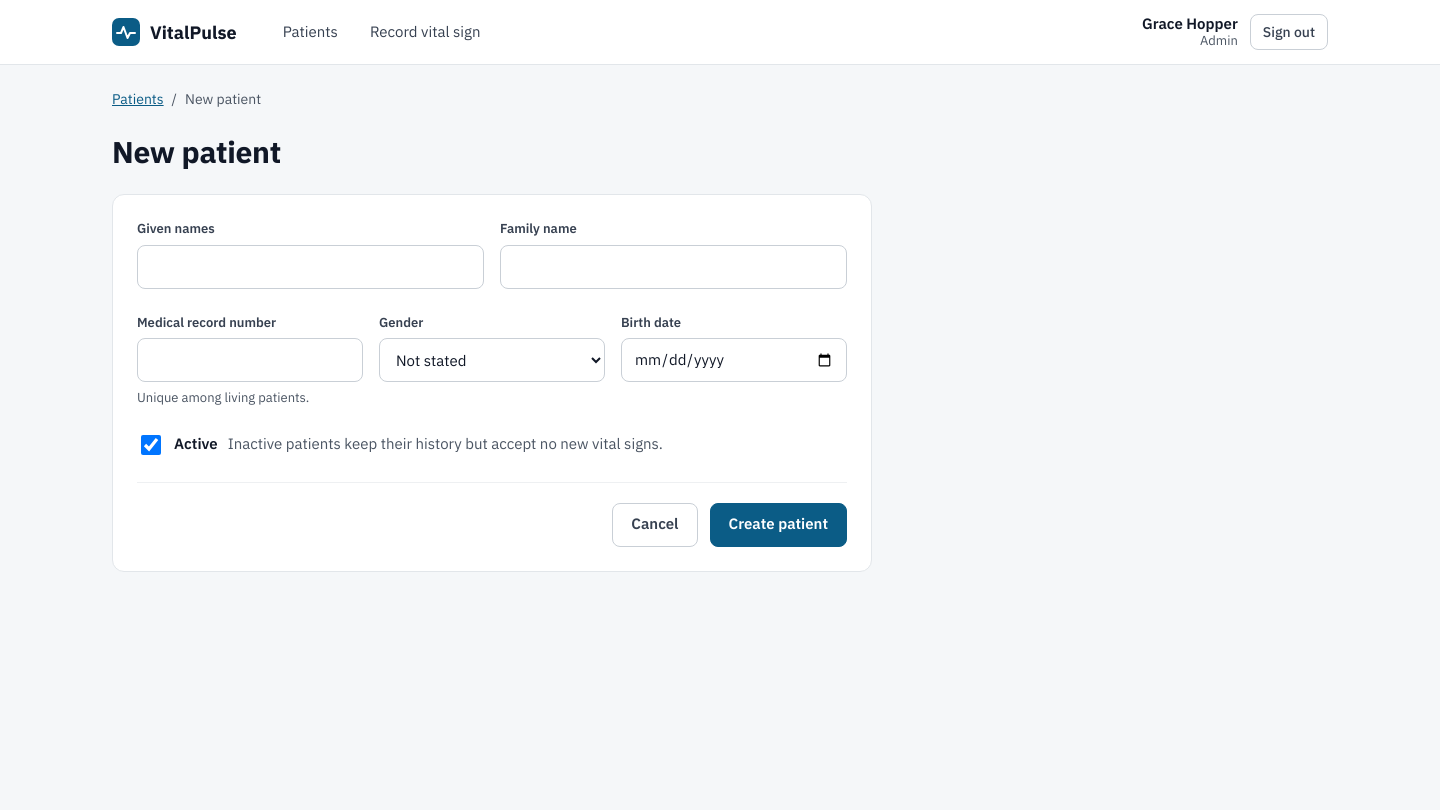
Test: Patient form page › creates a patient and opens it
The image size is (1440, 810).
Type "Grace Brewster" into the field labelled "Given names" at {"x": 310, "y": 266}, box [137,244,484,288]
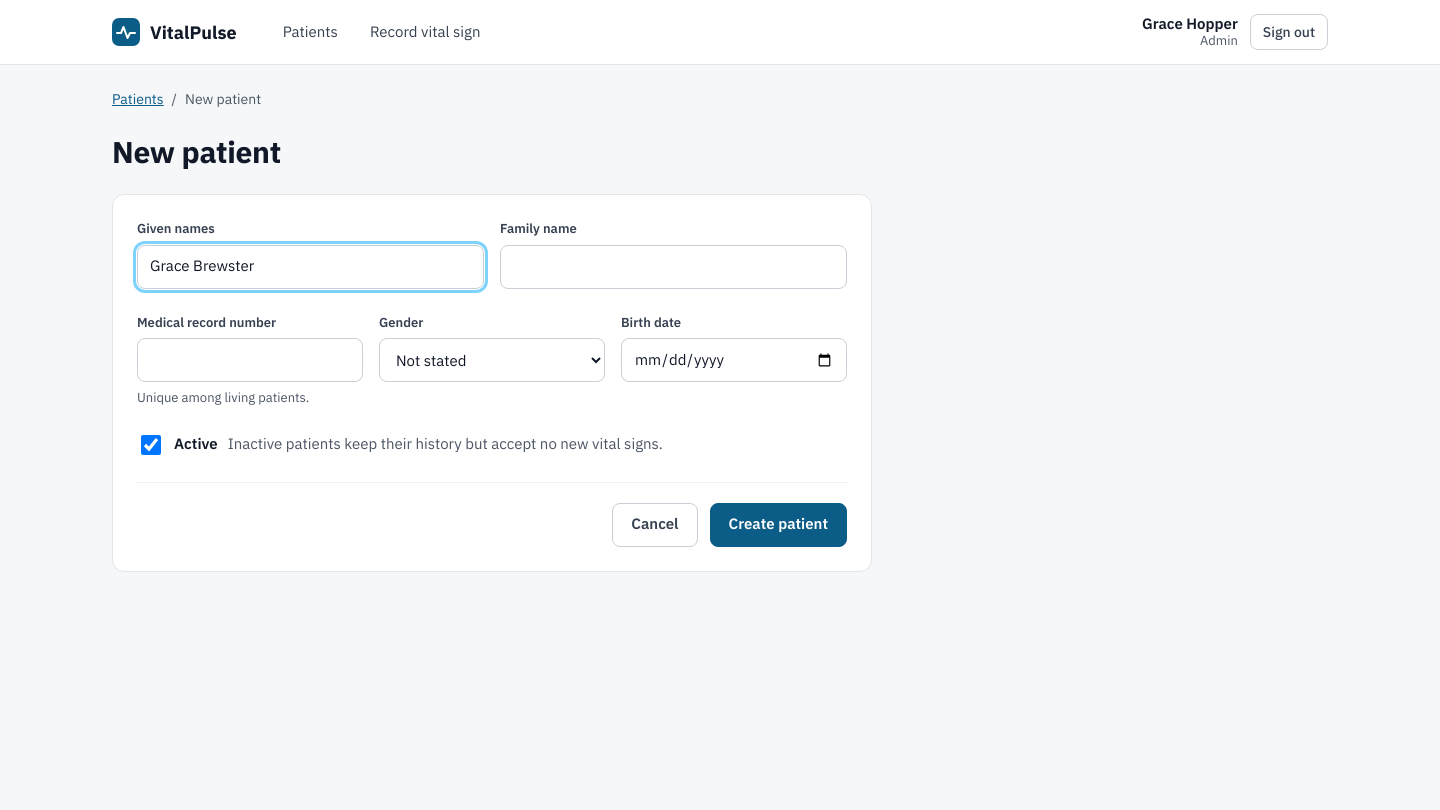
Type "Hopper" into the field labelled "Family name" at {"x": 674, "y": 266}, box [500,244,847,288]
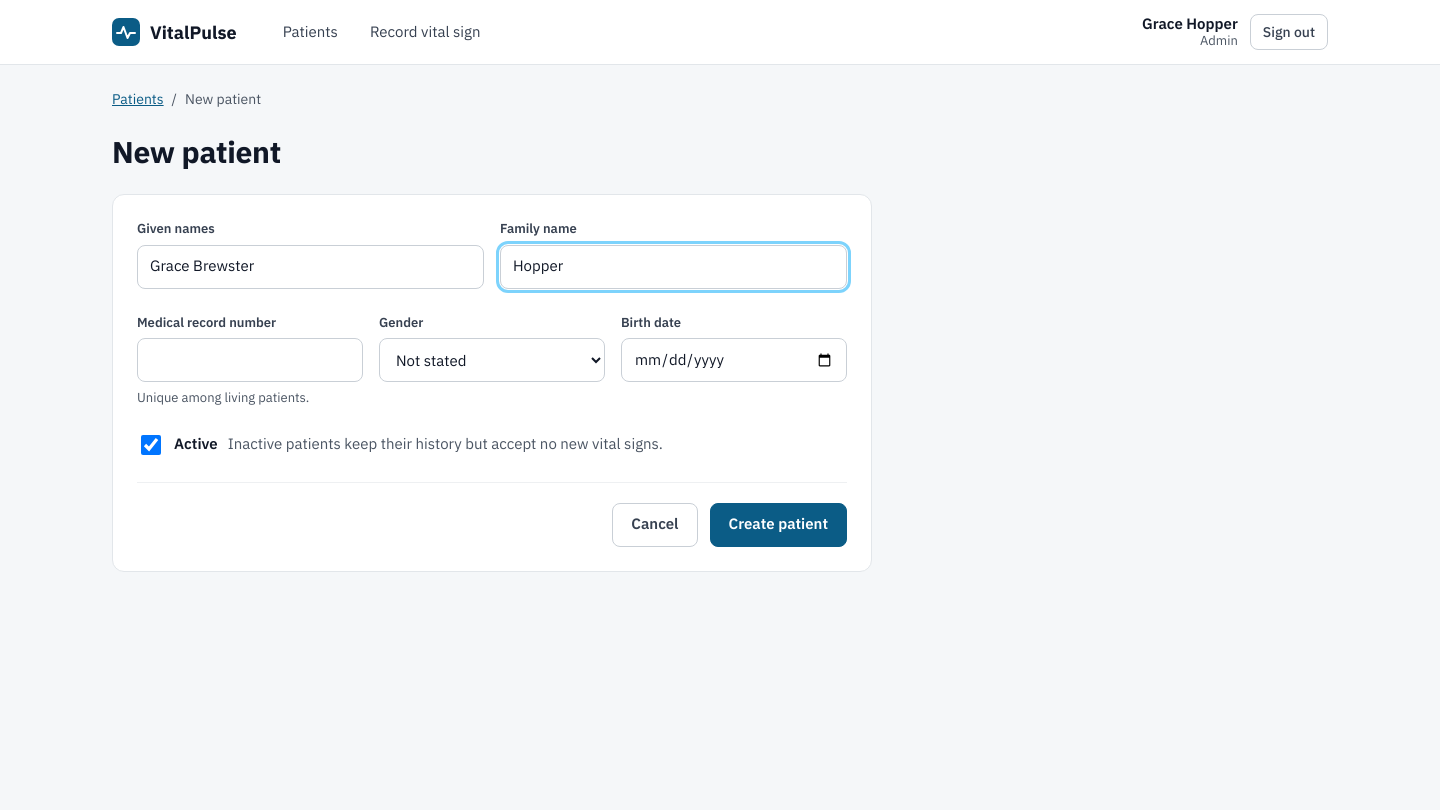
Type "MRN-0100" into the field labelled "Medical record number Unique among living patients." at {"x": 250, "y": 360}, box [137,338,363,382]
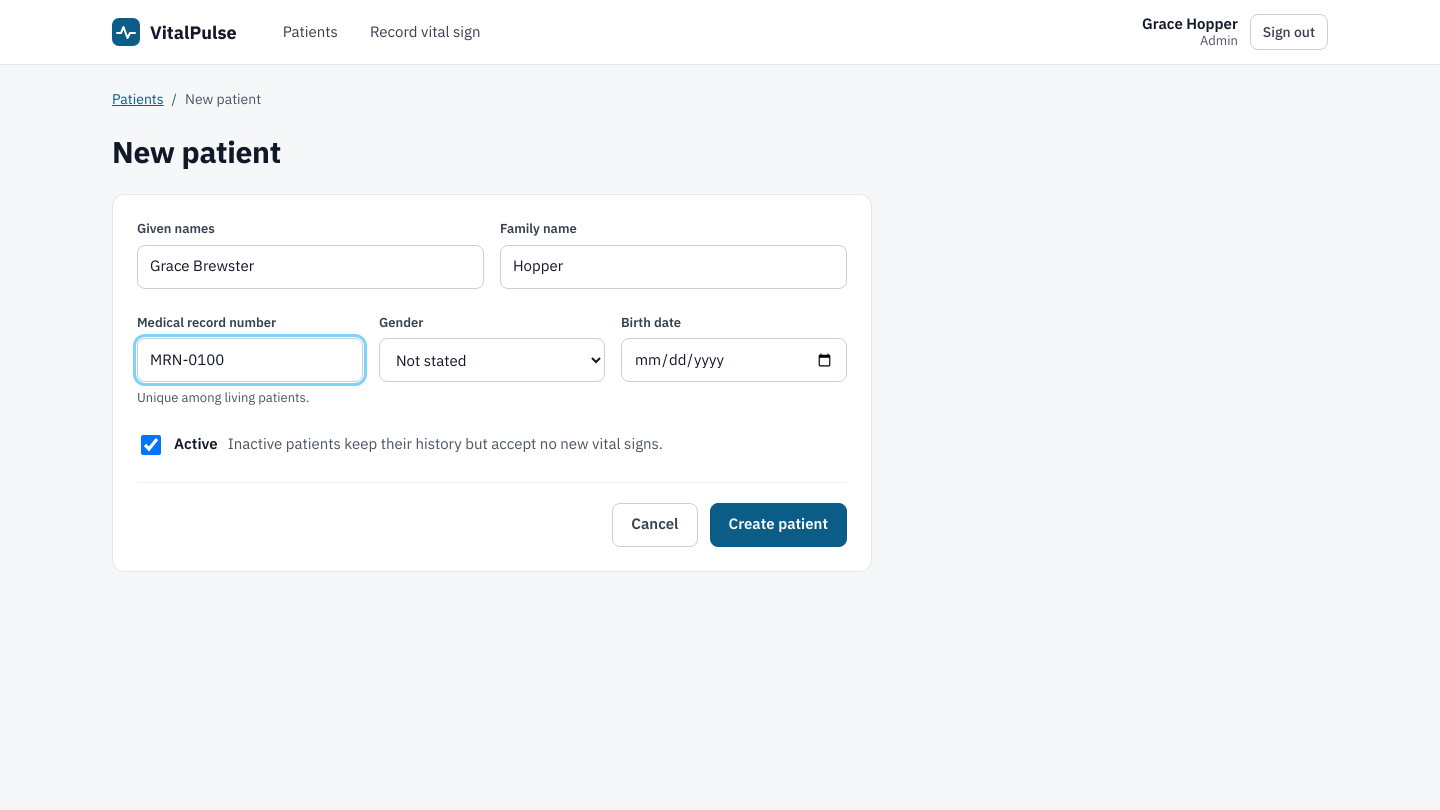
Select "Female" in the dropdown labelled "Gender" at {"x": 492, "y": 360}, box [379,338,605,382]
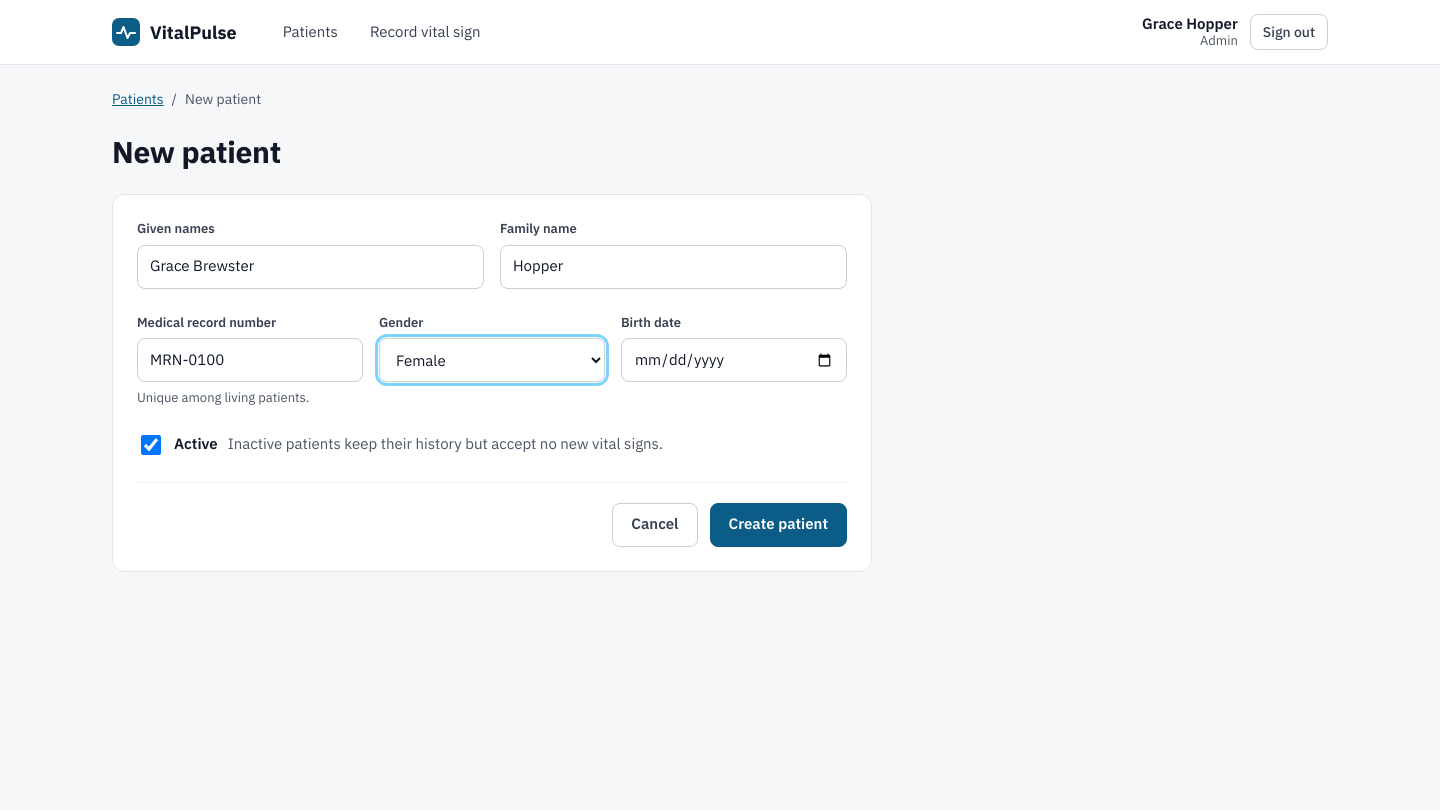
Type "1906-12-09" into the date field labelled "Birth date" at {"x": 734, "y": 360}, box [621,338,847,382]
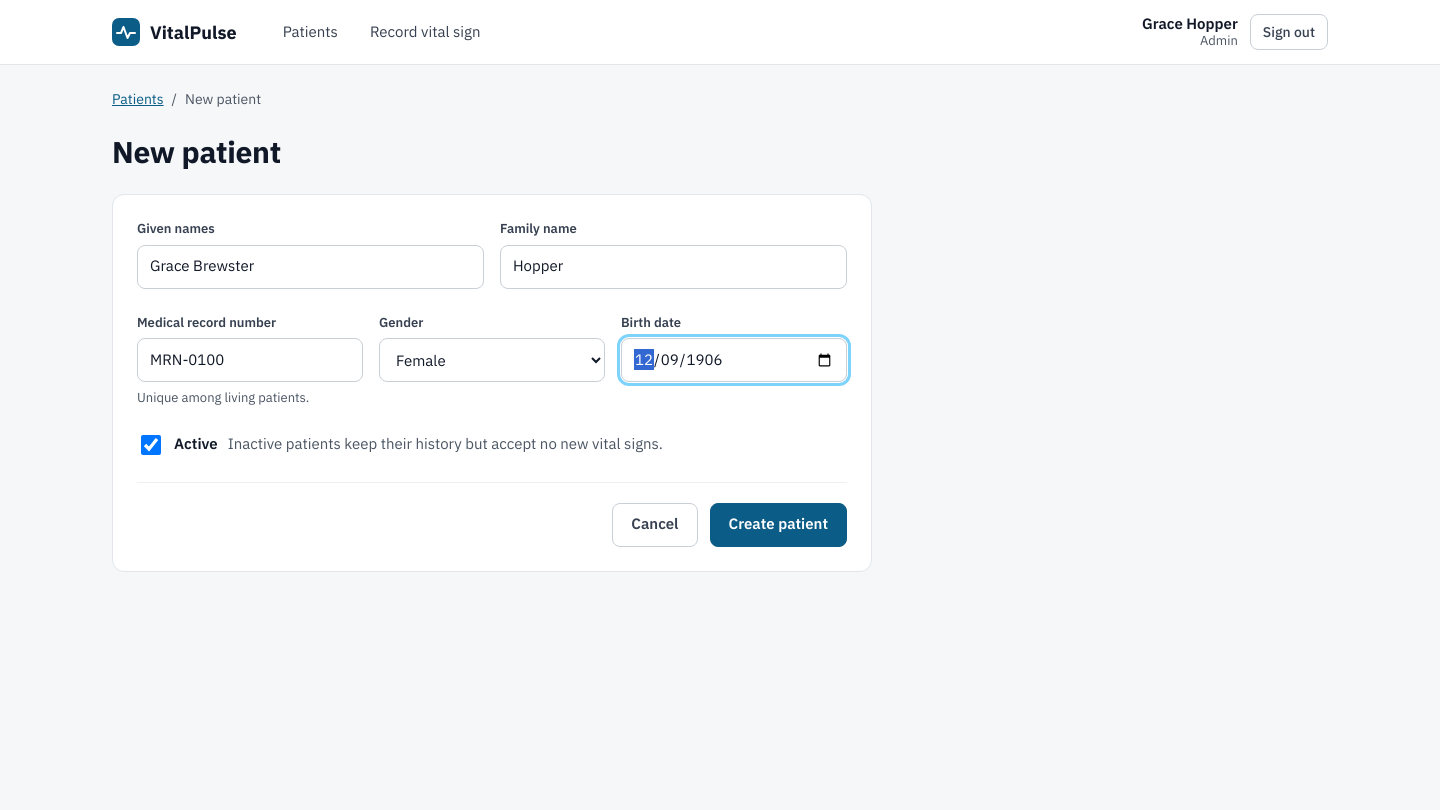
Click the button "Create patient" at {"x": 778, "y": 524}, box [710,502,847,546]
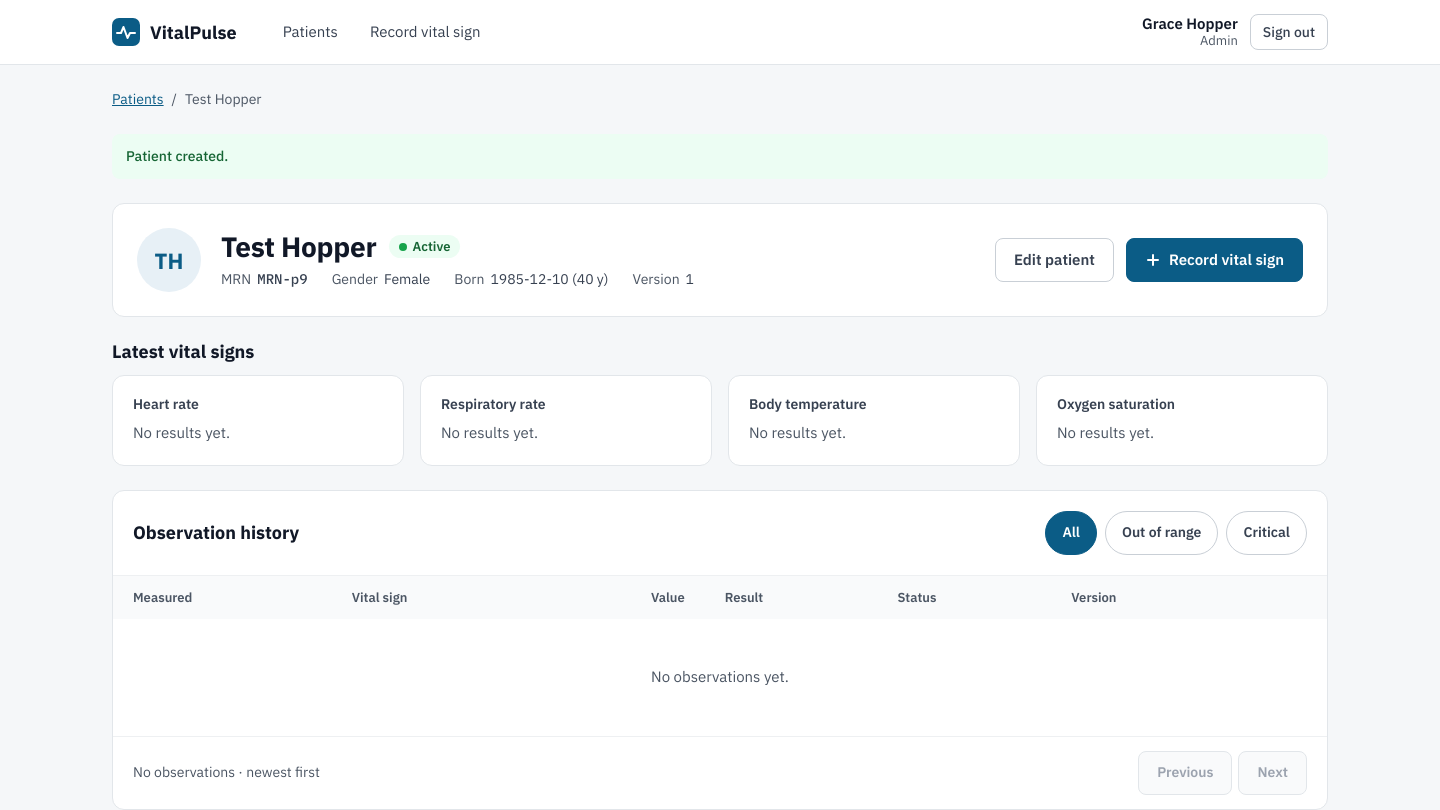
Result: the message reads "Patient created." at [126,147,228,165]
